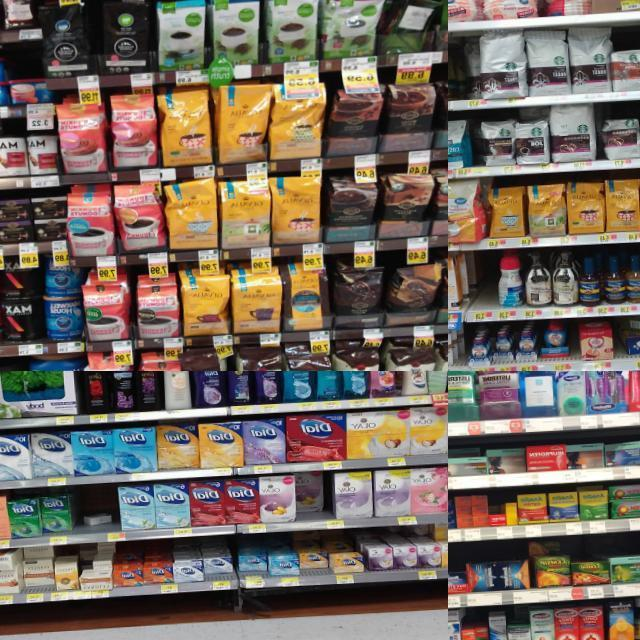Imprecise: (528, 539, 568, 586), (294, 469, 324, 522), (22, 561, 56, 593), (298, 548, 332, 576), (204, 556, 236, 582), (240, 552, 268, 580), (77, 508, 114, 528)
